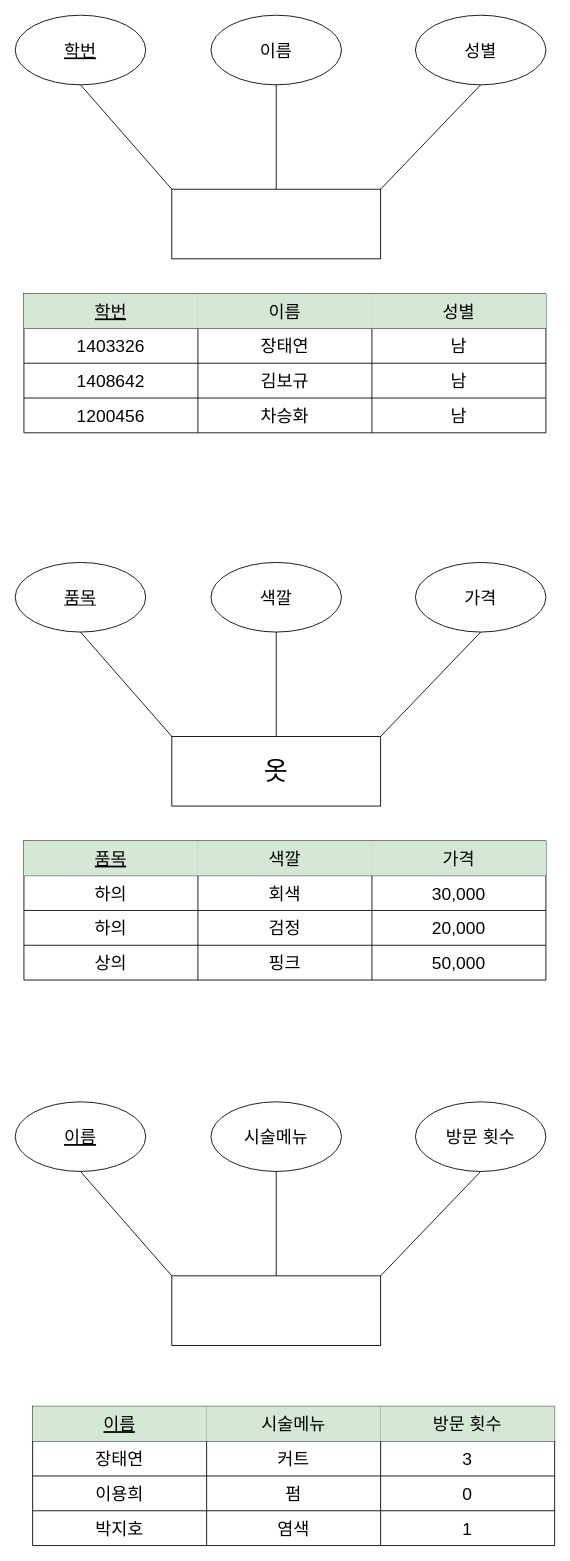
Some shapes in this 570 by 1561 pixel diagram are drawn without their labels. Here are the shapes that lost their labels. From the top down, the centre of each, then its label:
point 276,223: 학생
point 276,1310: 미용실 손님
